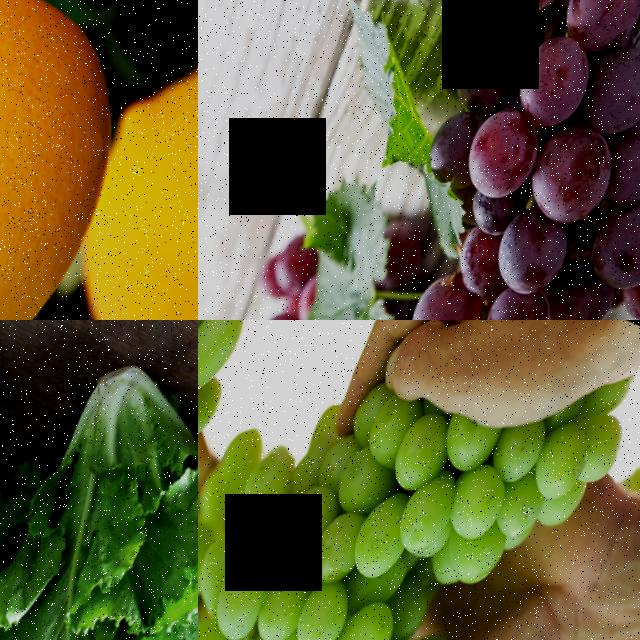grapes: (198, 329, 571, 640), (363, 0, 640, 320)
lemon: (0, 0, 171, 320)
lettuce: (0, 354, 198, 640), (0, 320, 77, 640)
